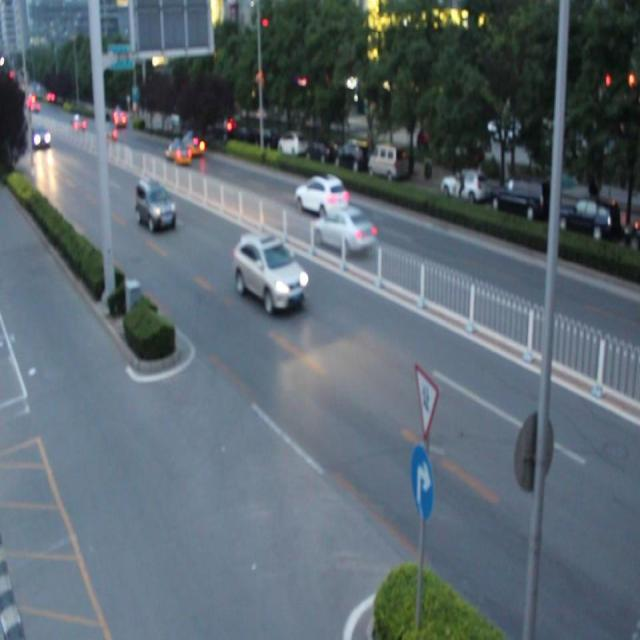car: (232, 235, 305, 308), (314, 206, 375, 254), (296, 176, 347, 213), (137, 181, 174, 227), (179, 132, 206, 160), (166, 139, 193, 166)
